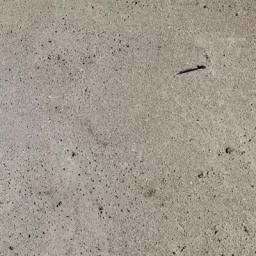FOD: (171, 63, 208, 78)
